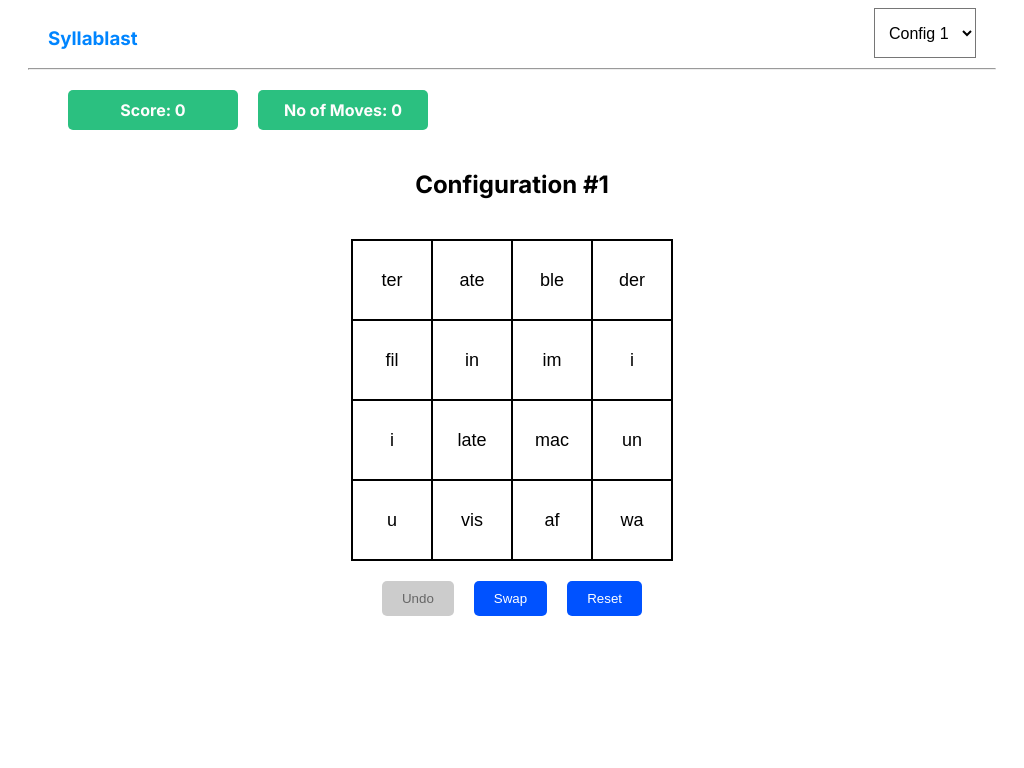
Test case: Home component › handleUndo should undo the last move
Click the button "ter" at (392, 280), box [352,240,432,320]
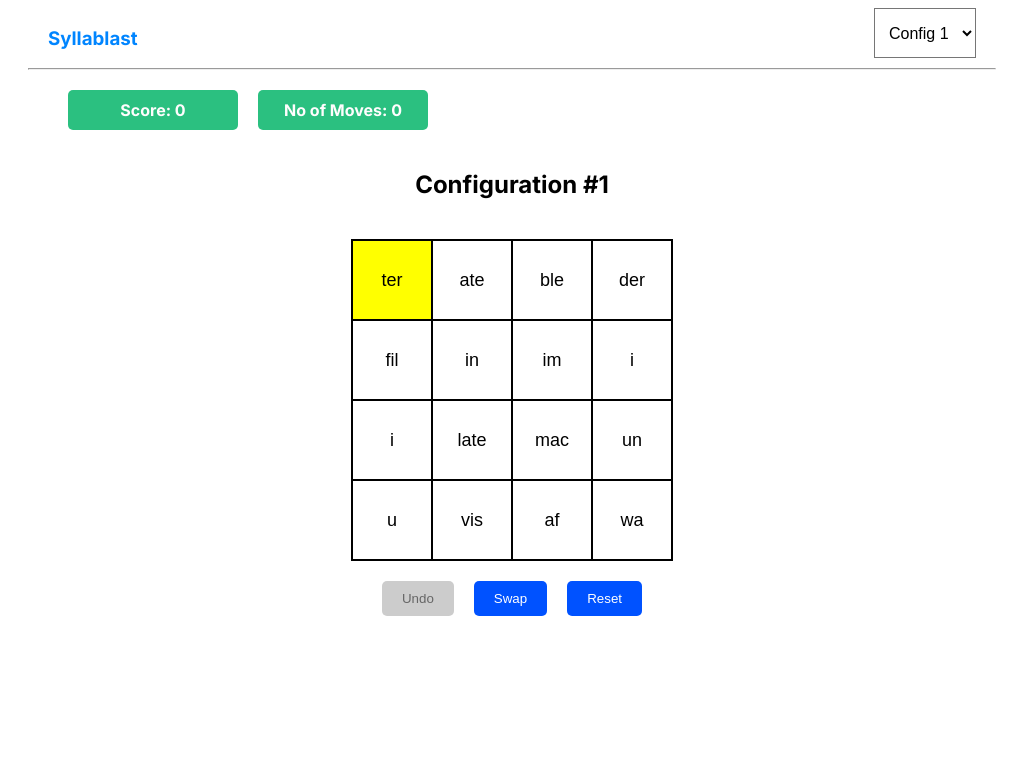
Click the button "ate" at (472, 280), box [432,240,512,320]
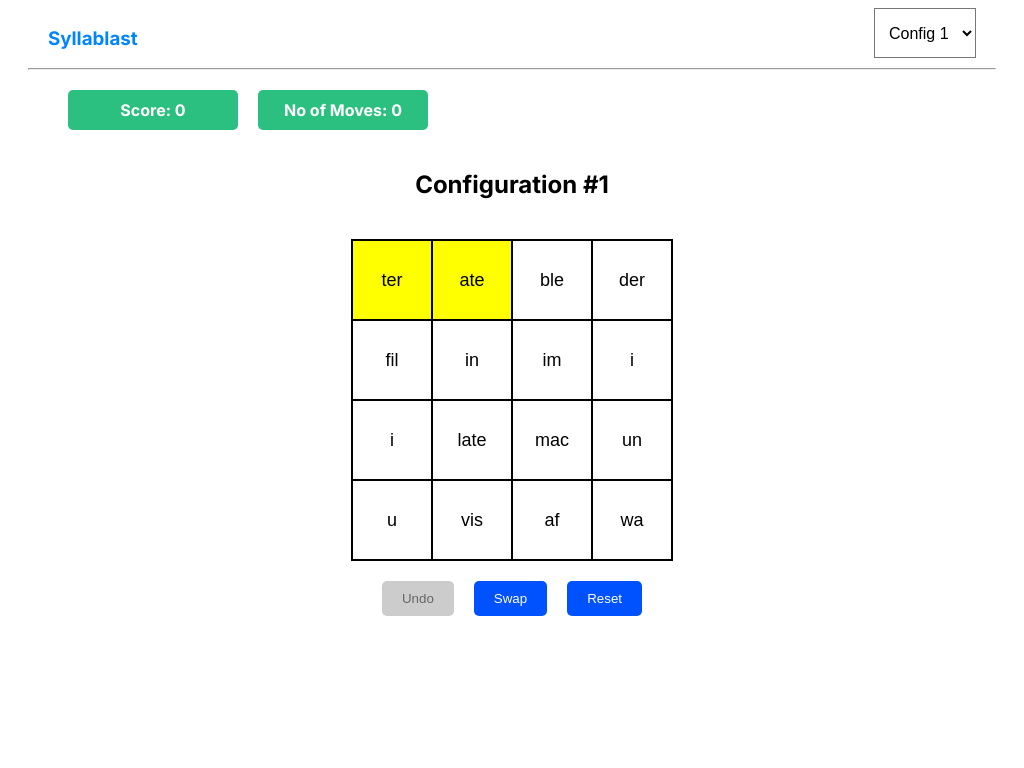
Click the button with id "swap" at (510, 599), box [474,581,547,616]
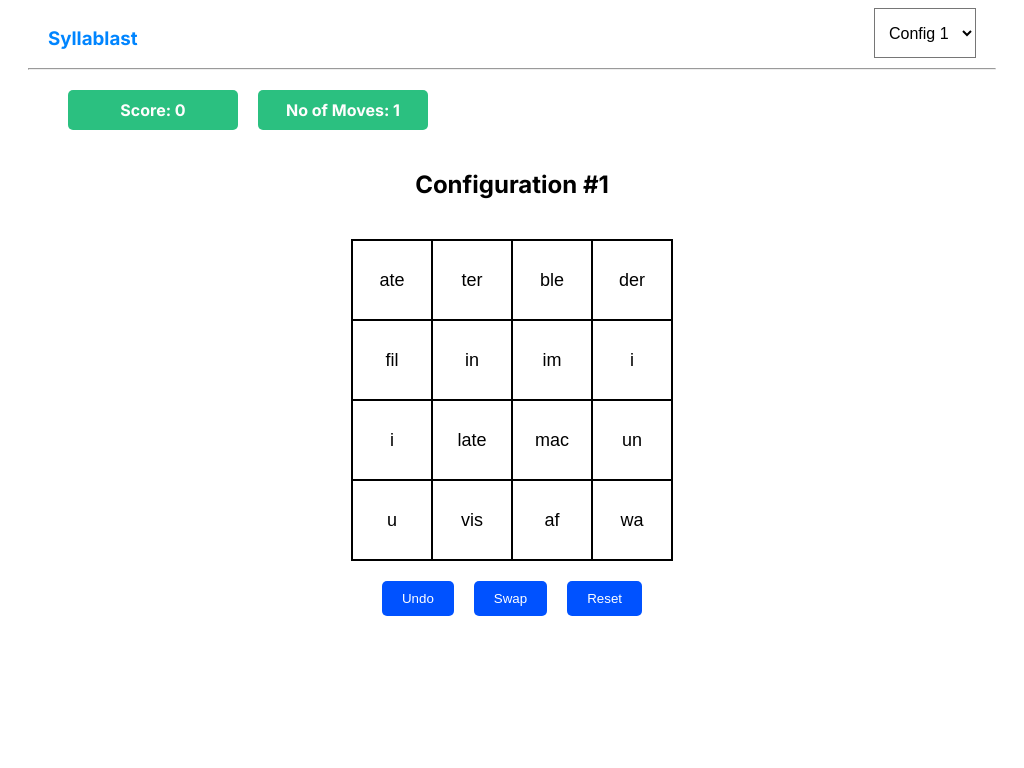
Expected: the text "No of Moves: 0" reads "No of Moves: 1", [286,100,400,120]
Click the button with id "undo" at (418, 599), box [382,581,454,616]
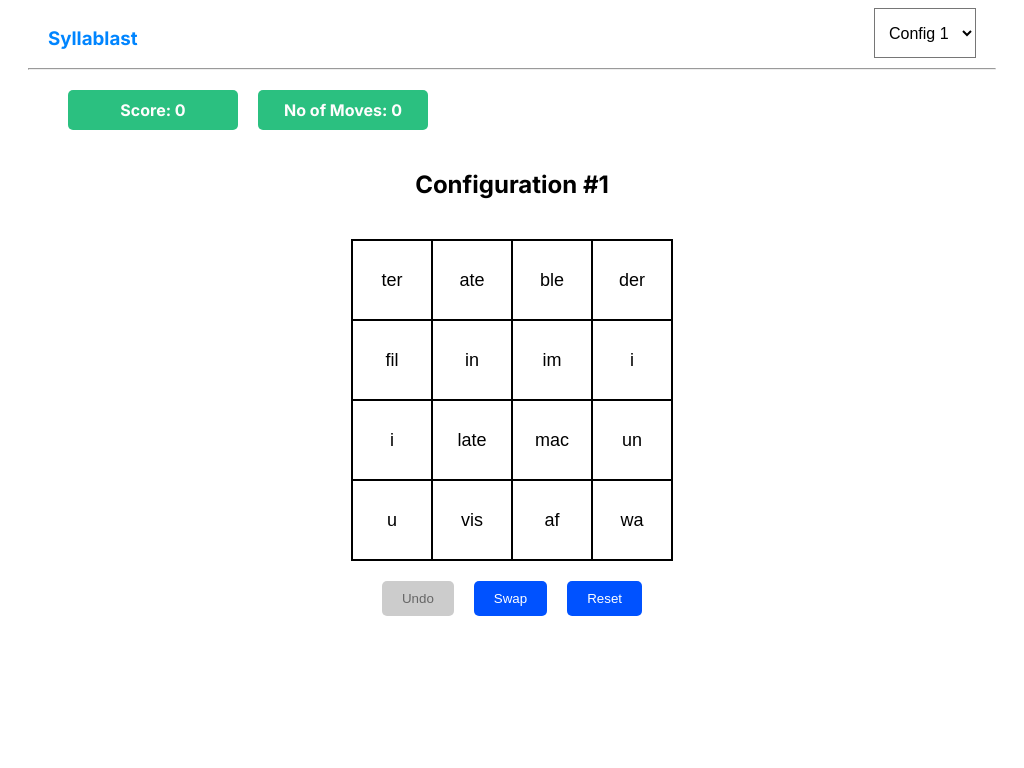
Expected: the text "No of Moves: 0" is shown, [284,100,402,120]
